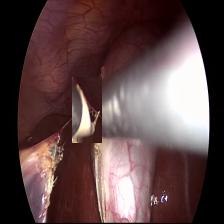Hook: (72, 77, 102, 143)
